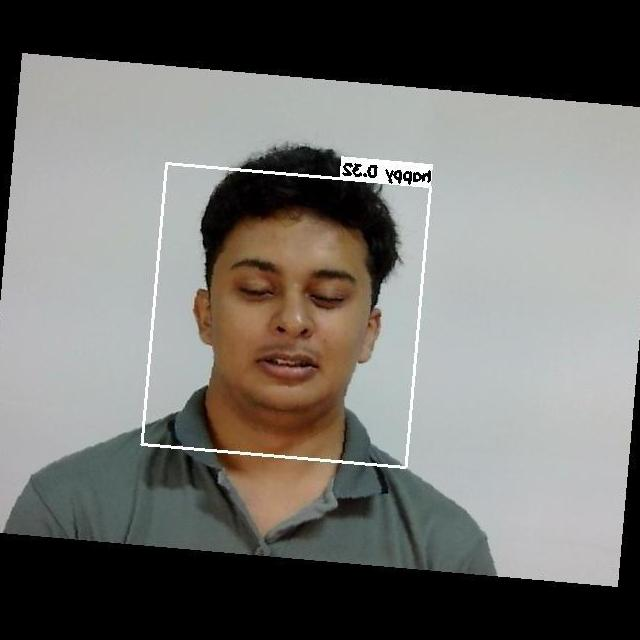Fear: (193, 223, 371, 410)
